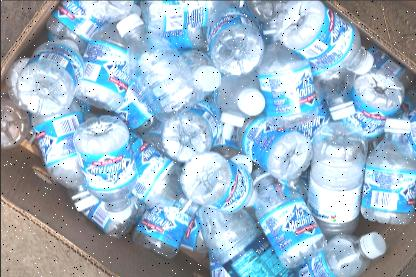Plastic Bottle: (111, 14, 205, 120), (246, 165, 326, 266), (70, 111, 140, 223), (274, 0, 376, 74), (306, 116, 360, 248), (358, 114, 414, 226), (231, 110, 313, 178), (179, 148, 257, 218), (16, 37, 82, 117), (292, 232, 386, 276), (206, 8, 266, 76), (140, 0, 246, 35)
